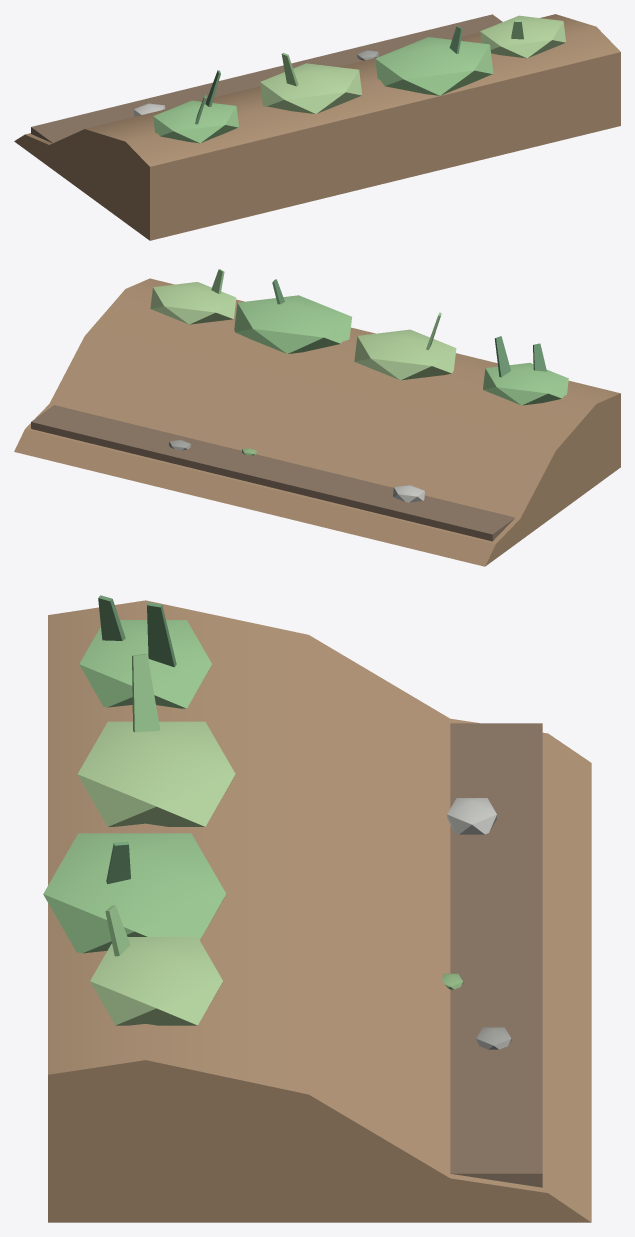
Rendered from hearthvale_bank_straight.glb.
The picture shows the model from 3 angles, top to bottom: view 1: azimuth 30°, elevation 25°; view 2: azimuth 150°, elevation 25°; view 3: azimuth 270°, elevation 25°; orthographic projection. The views are drawn at different scales.
Visible parts, largest first — view 1: hearthvale_bank_straight; view 2: hearthvale_bank_straight; view 3: hearthvale_bank_straight.
Part boxes in pixels (<box>): hearthvale_bank_straight: <box>14,14,620,240</box>; hearthvale_bank_straight: <box>14,269,620,566</box>; hearthvale_bank_straight: <box>43,595,591,1222</box>.
Size of the model in its own units: 2 by 0.5336 by 1.01.
